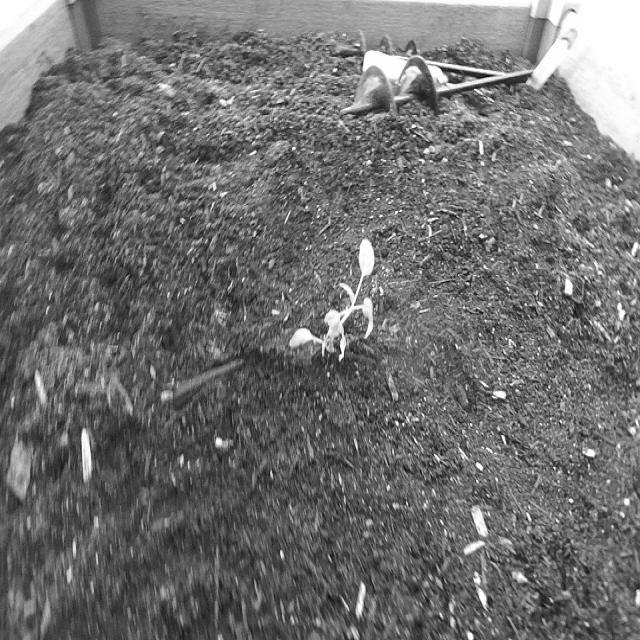Healthy: (280, 222, 385, 381)
